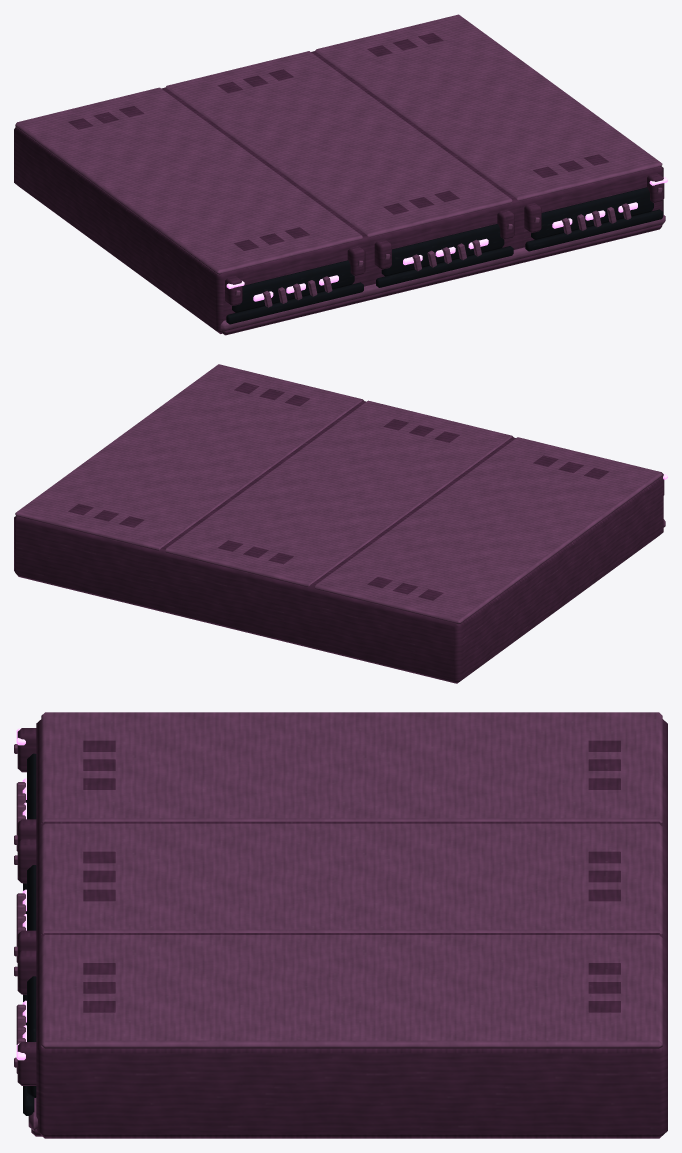
Rendered from biolab_deck.glb.
The picture shows the model from 3 angles, top to bottom: view 1: azimuth 30°, elevation 25°; view 2: azimuth 150°, elevation 25°; view 3: azimuth 270°, elevation 25°; orthographic projection. The views are drawn at different scales.
Parts seen in each view (by area): view 1: biolab_deck - biolab trim, biolab_deck - biolab panels, biolab_deck - Recessed iron, biolab_deck - biolab accents; view 2: biolab_deck - biolab trim, biolab_deck - biolab panels; view 3: biolab_deck - biolab trim, biolab_deck - biolab panels, biolab_deck - Recessed iron.
Boxes of the visible parts, x1,y1,x2,y2 form: biolab_deck - biolab trim: (15,14,665,331); biolab_deck - biolab panels: (14,33,664,335); biolab_deck - Recessed iron: (226,187,663,324); biolab_deck - biolab accents: (226,177,667,301); biolab_deck - biolab trim: (15,364,665,624); biolab_deck - biolab panels: (14,382,664,683); biolab_deck - biolab trim: (14,712,662,1130); biolab_deck - biolab panels: (17,719,667,1138); biolab_deck - Recessed iron: (23,753,36,1115).
Bounding box in the file's own units: 5.99 × 0.8325 × 4.97.
Materials: 4 (3 with a texture image).
